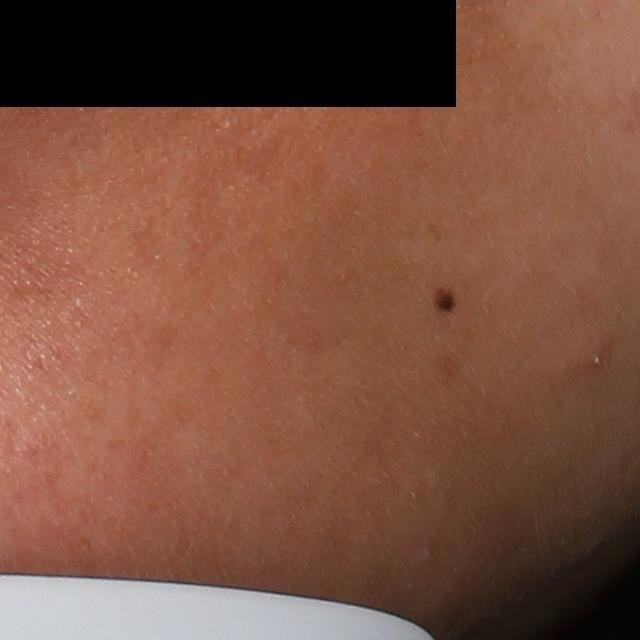nevus: (430, 287, 458, 313)
